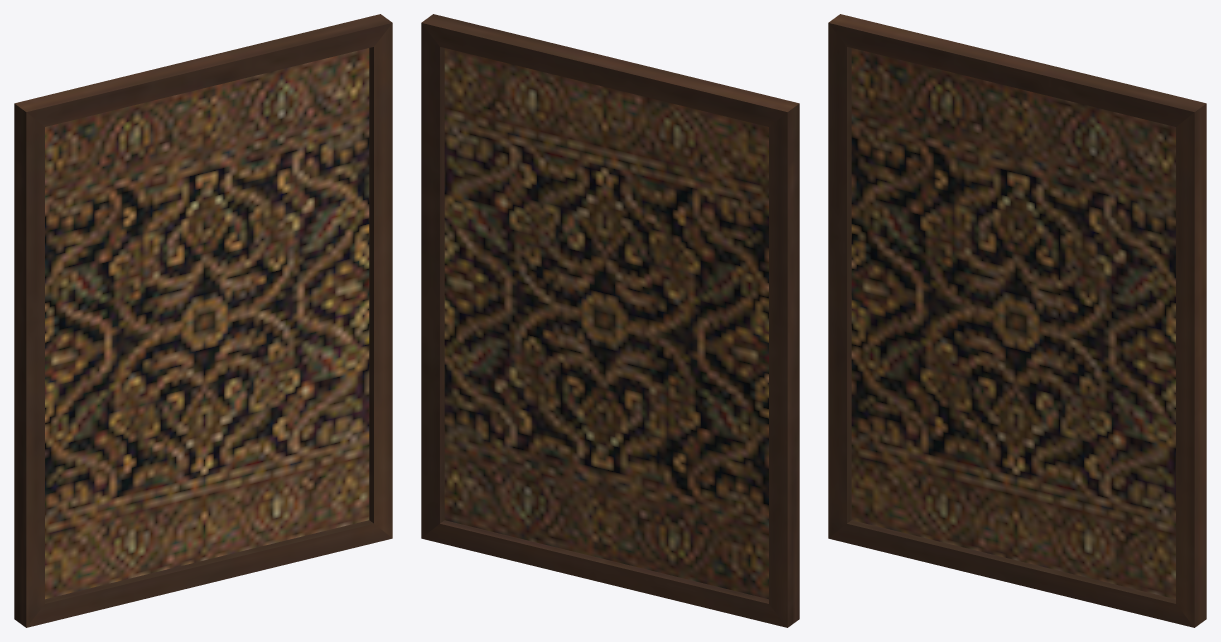
File: BathroomScreen.fbx
3 views of the same model, side by side, from view 1: azimuth 30°, elevation 25°; view 2: azimuth 150°, elevation 25°; view 3: azimuth 330°, elevation 25° (orthographic).
Visible parts, largest first — view 1: Cube.044; view 2: Cube.044; view 3: Cube.044.
Part boxes in pixels (x1,y1,x2,y2): Cube.044: (14,14,392,627); Cube.044: (421,14,799,627); Cube.044: (828,14,1206,627).
Size of the model in its own units: 140 by 189 by 7.99.
Materials: 1 (1 with a texture image).
